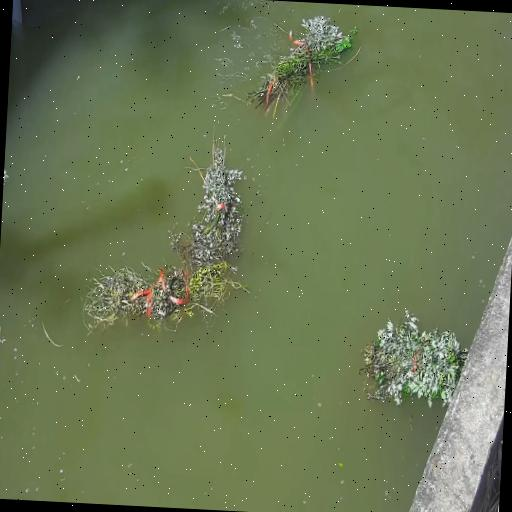twig: (83, 252, 240, 336), (246, 10, 354, 122), (358, 307, 468, 410), (182, 129, 250, 259)
